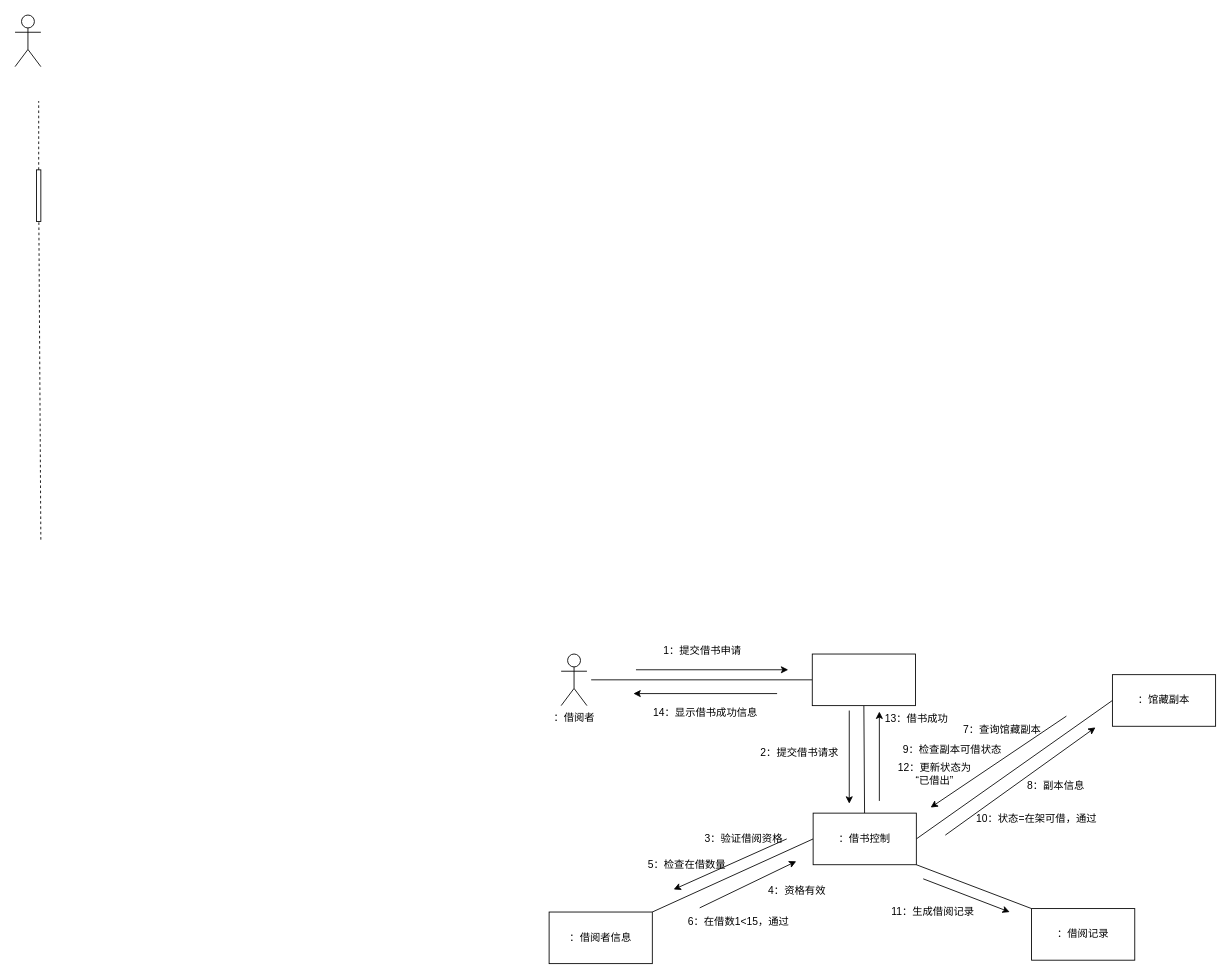
Image size: 1231x979. Some labels were removed from this diagram. Each missing label, with the box of its shape:
Actor: (14, 14, 41, 67)
：借书界面: (811, 653, 915, 706)
